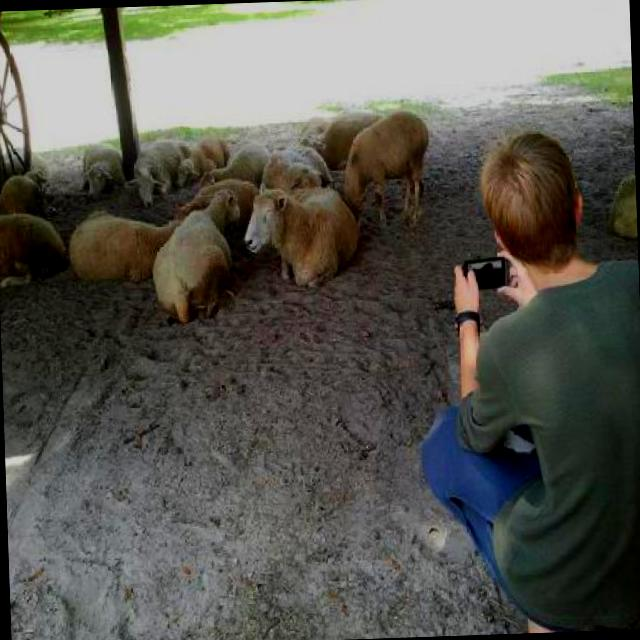Person: (410, 119, 640, 628)
